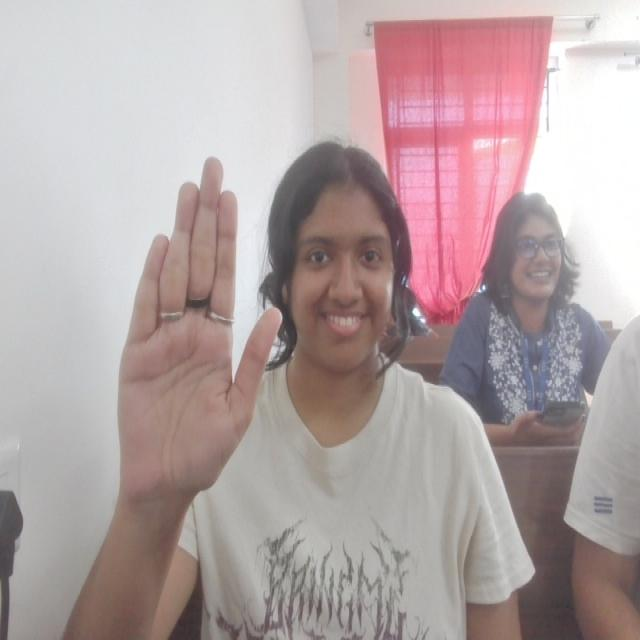hello: (117, 151, 284, 508)
